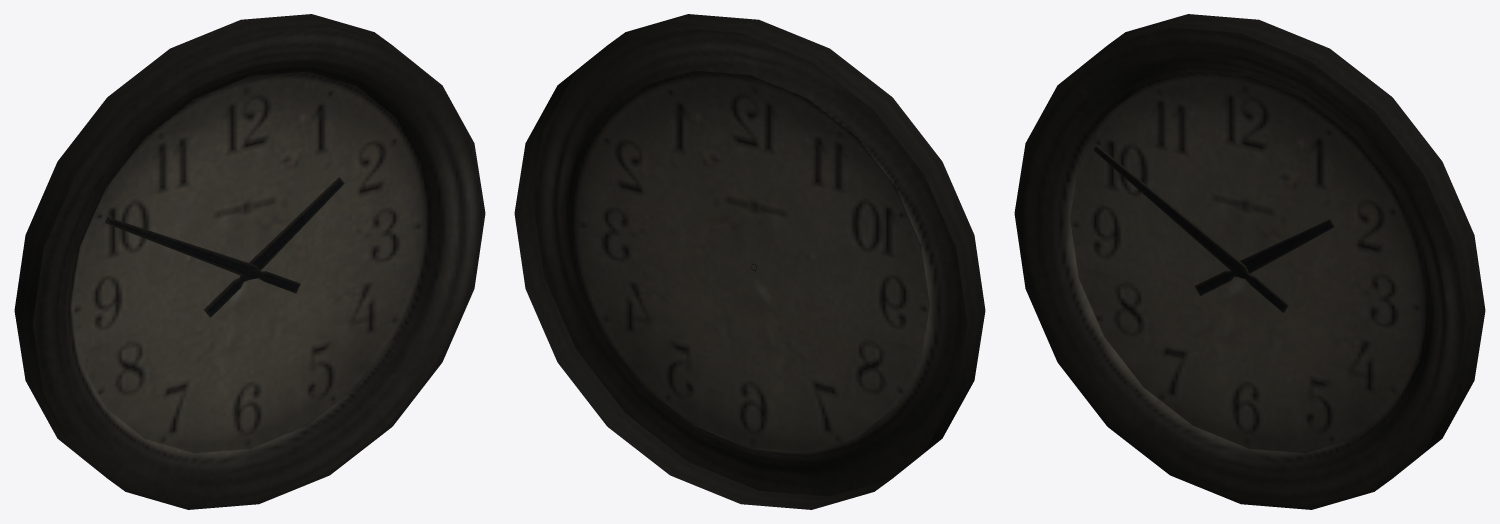
The model's file is clock_2.fbx.
3 views of the same model, side by side, from view 1: azimuth 30°, elevation 25°; view 2: azimuth 150°, elevation 25°; view 3: azimuth 330°, elevation 25° (orthographic).
Parts seen in each view (by area): view 1: clock_2, clock_2_arm_minutes, clock_2_arm_hours; view 2: clock_2; view 3: clock_2, clock_2_arm_minutes, clock_2_arm_hours.
Part boxes in pixels (bbox=[...]): clock_2: bbox=[14, 14, 485, 509]; clock_2_arm_minutes: bbox=[105, 217, 300, 293]; clock_2_arm_hours: bbox=[204, 177, 344, 317]; clock_2: bbox=[514, 14, 985, 509]; clock_2: bbox=[1014, 14, 1485, 509]; clock_2_arm_minutes: bbox=[1093, 145, 1288, 312]; clock_2_arm_hours: bbox=[1194, 219, 1335, 295].
Bounding box in the file's own units: 0.2816 × 0.021 × 0.28.
